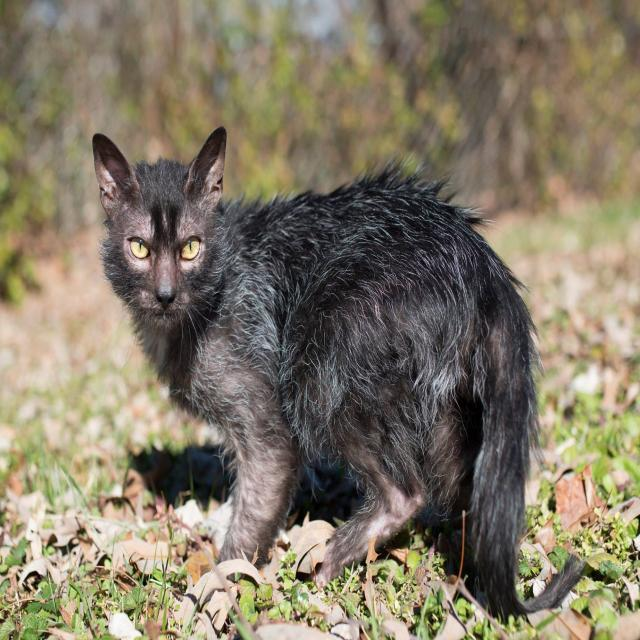Lykoi: (89, 122, 590, 625)
